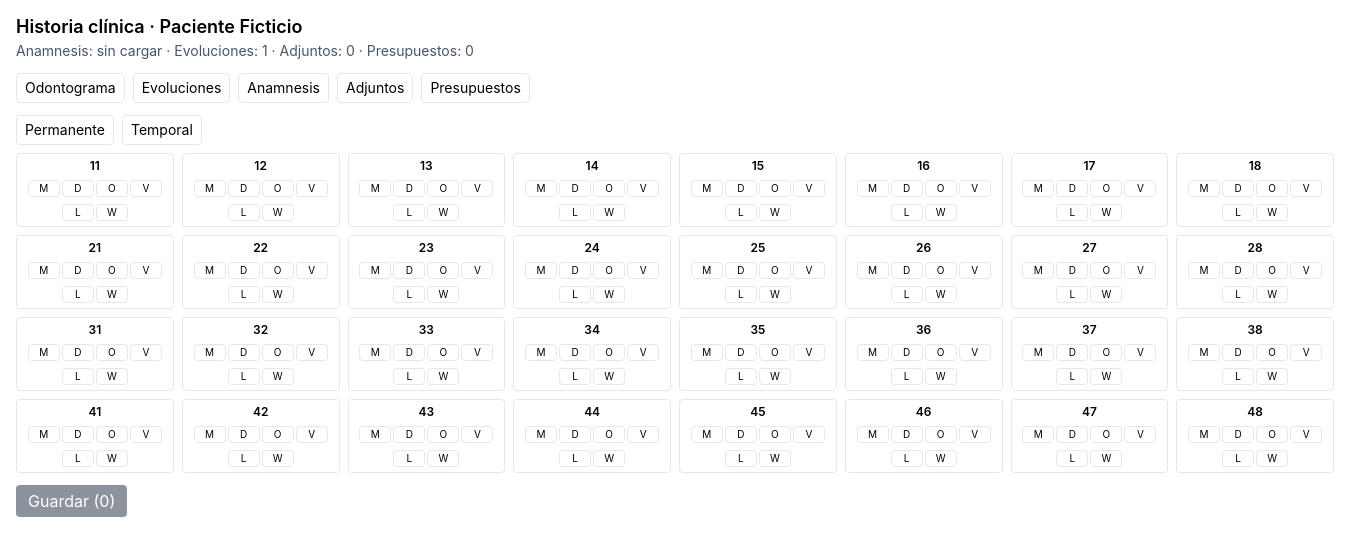
Scenario: Corrección de evoluciones › solo el autor ve el botón Corregir
The image size is (1351, 534).
Expected: the heading "Historia clínica · Paciente Ficticio" is shown, [16, 16, 302, 37]
Click the tab "evoluciones" at (181, 88), box [133, 73, 230, 103]
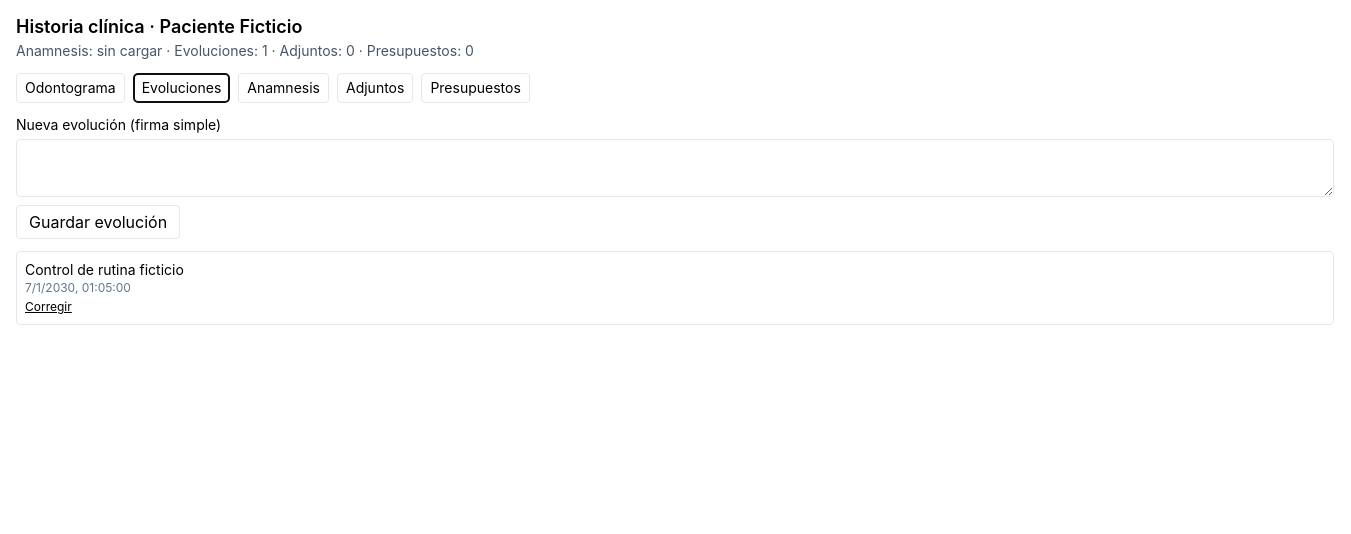
Expected: the button "Corregir" is shown, [25, 299, 72, 315]
